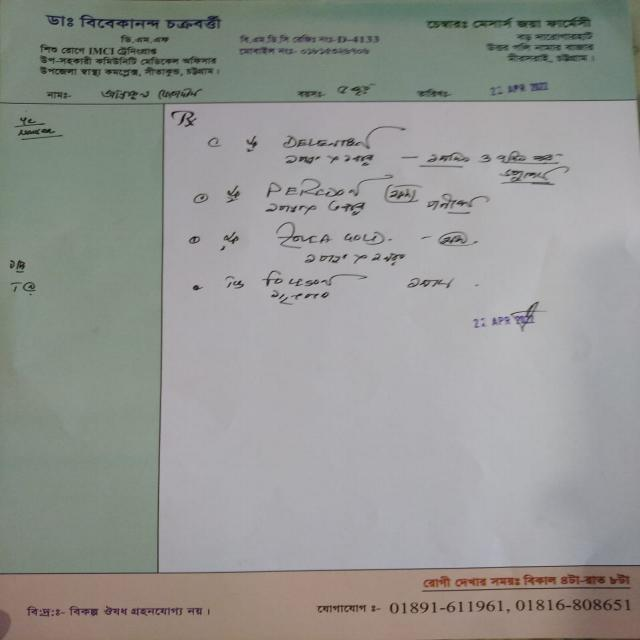Delentin: (280, 133, 379, 154)
Folison: (250, 271, 338, 291)
Pericon: (262, 180, 376, 203)
Zovia Gold: (269, 222, 392, 251)
